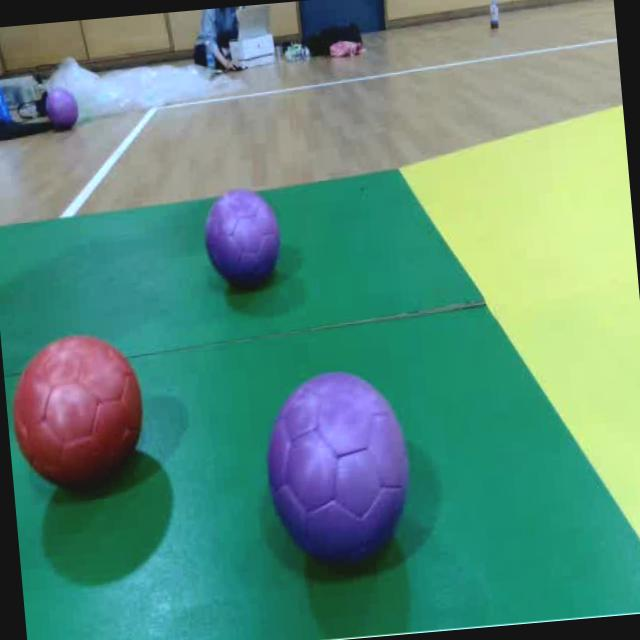purple_ball: (258, 358, 426, 576), (197, 182, 289, 298), (44, 85, 80, 133)
red_ball: (4, 323, 152, 501)
